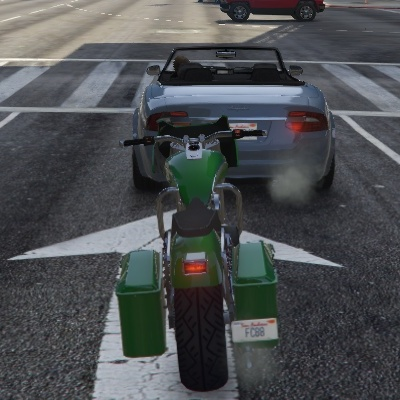on: (181, 250, 212, 281)
